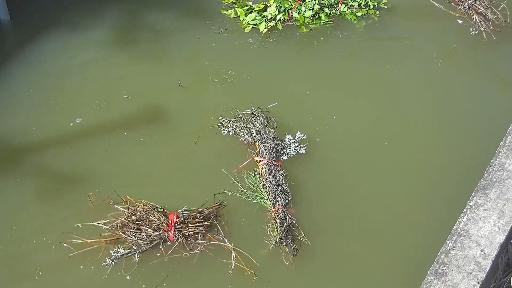twig: (214, 85, 322, 273), (92, 193, 252, 280), (230, 0, 425, 32), (454, 0, 512, 26)
